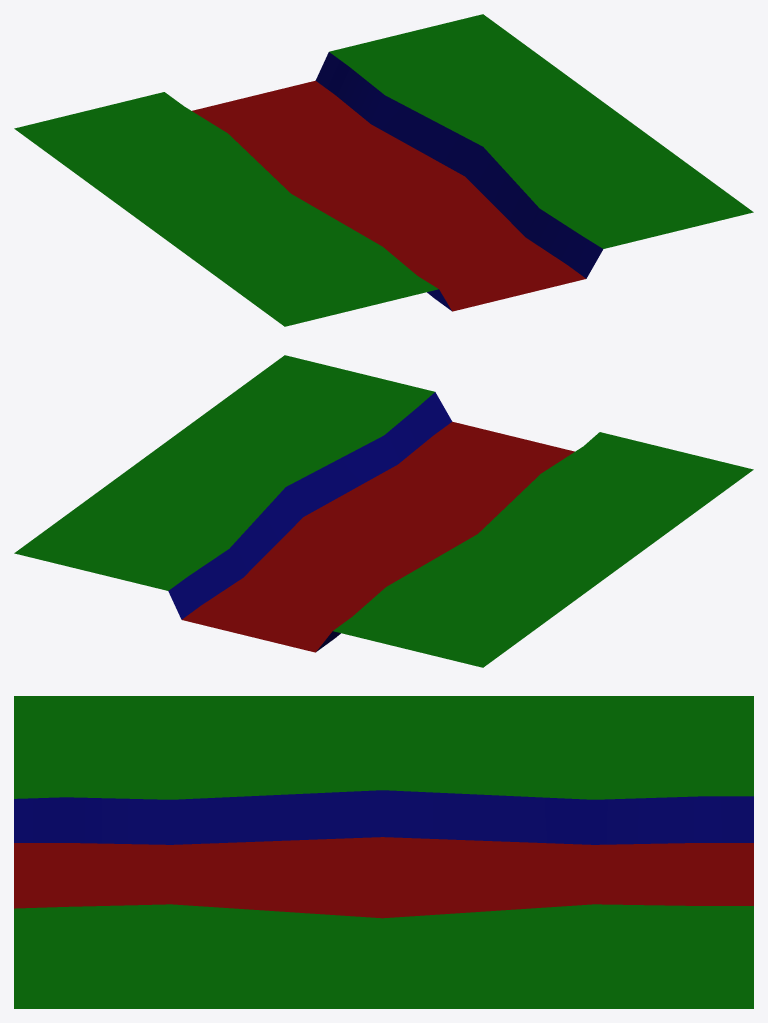
Rendered from StraightRoad_v3.fbx.
The picture shows the model from 3 angles, top to bottom: view 1: azimuth 30°, elevation 25°; view 2: azimuth 150°, elevation 25°; view 3: azimuth 270°, elevation 25°; orthographic projection. The views are drawn at different scales.
Visible parts, largest first — view 1: StraightRoad1; view 2: StraightRoad1; view 3: StraightRoad1.
Part boxes in pixels (x1=…): StraightRoad1: x1=14, y1=14, x2=753, y2=326; StraightRoad1: x1=14, y1=355, x2=753, y2=667; StraightRoad1: x1=14, y1=696, x2=753, y2=1008.
Size of the model in its own units: 7 by 0.3659 by 7.
